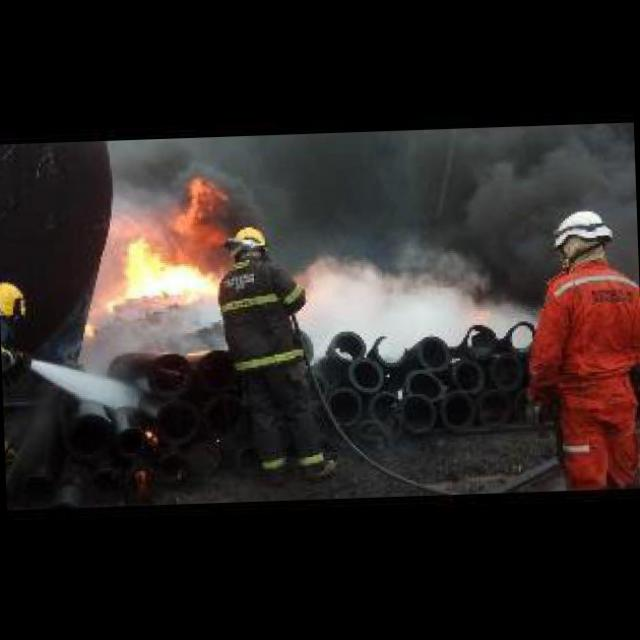fire: (100, 174, 238, 309), (82, 320, 96, 334)
smoke: (204, 120, 635, 222), (303, 225, 546, 361)
